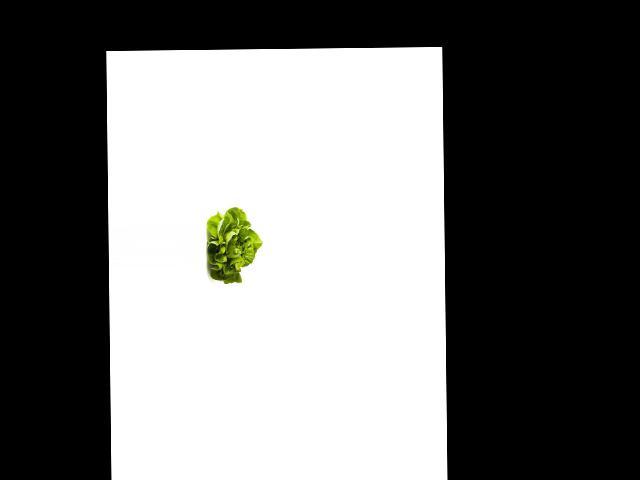lettuce: (205, 204, 262, 285)
